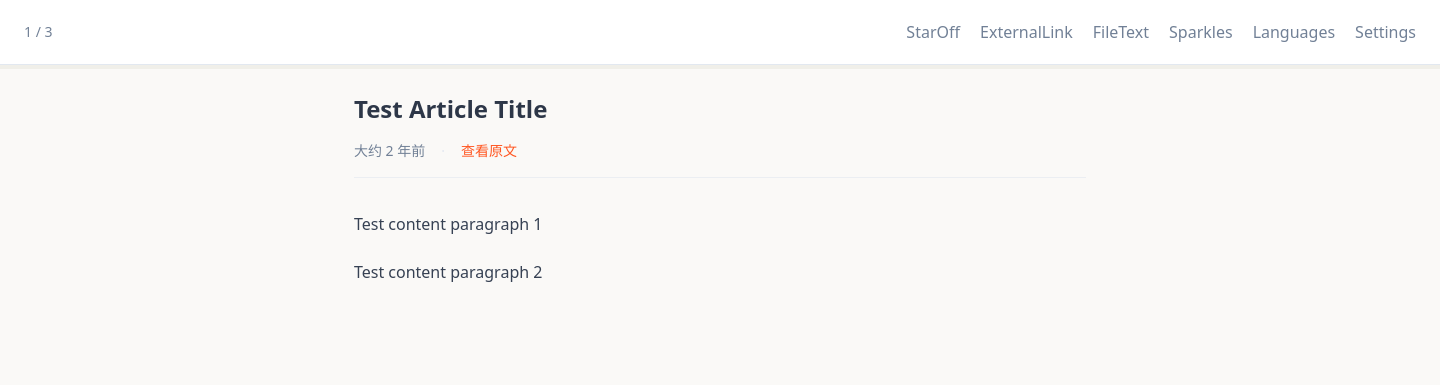
Scenario: ArticleViewer › fetch full content error with string › should handle non-Error object in fetch full content
Click the button titled "抓取全文" at (1121, 32), box [1085, 12, 1157, 52]
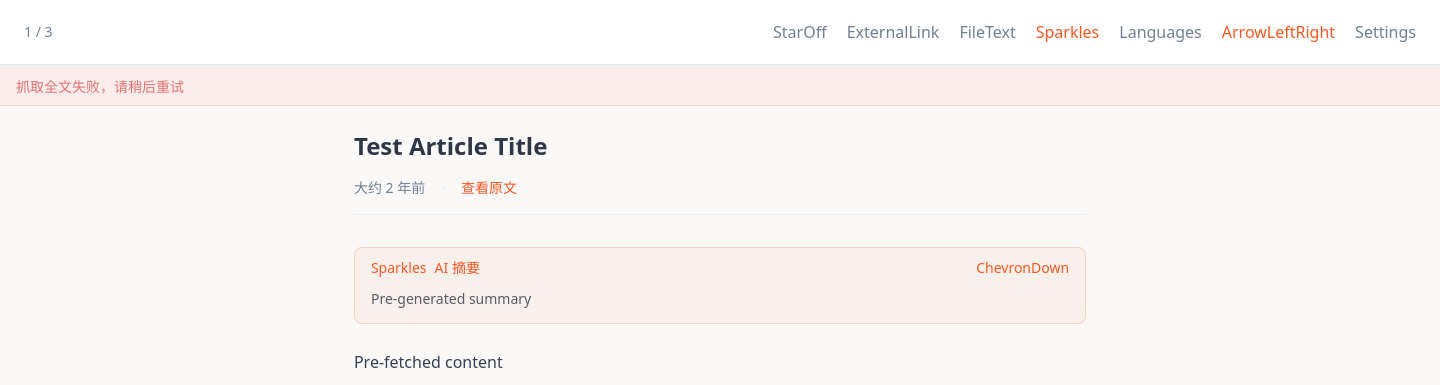
expect the text with test id "fetch-error-banner" reads "抓取全文失败，请稍后重试": met, box [16, 77, 184, 96]
